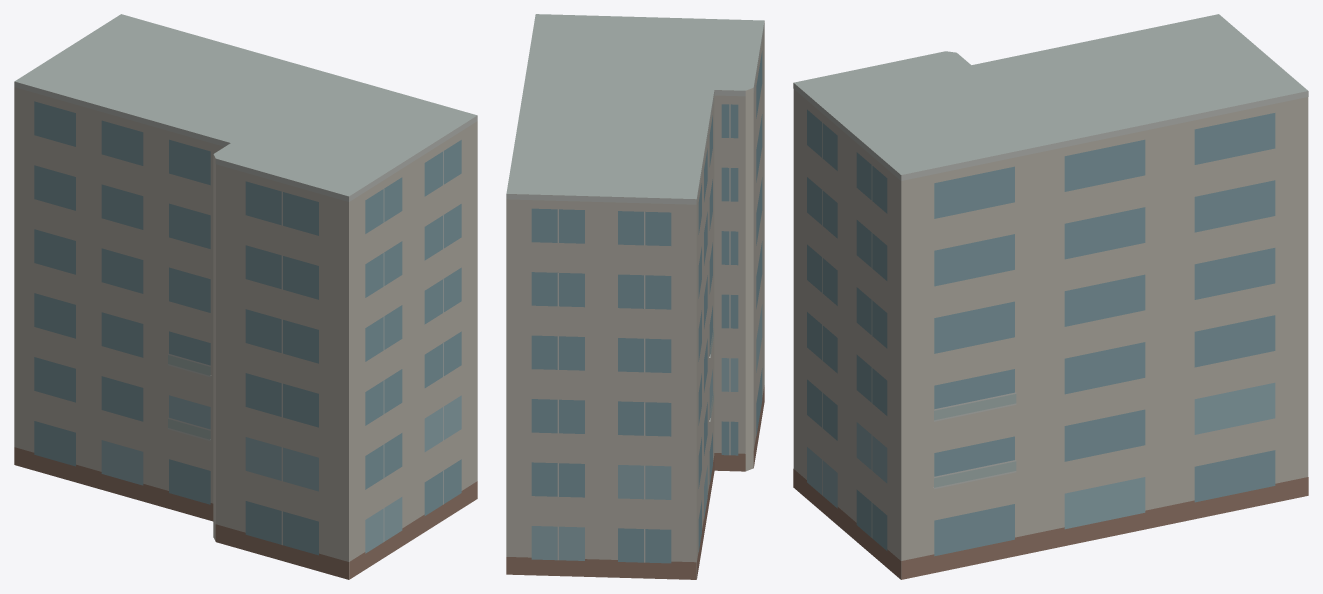
The model's file is survey-upis-32629489.glb.
The picture shows the model from 3 angles, left to right: view 1: azimuth 30°, elevation 25°; view 2: azimuth 150°, elevation 25°; view 3: azimuth 270°, elevation 25°; orthographic projection. The views are drawn at different scales.
Parts seen in each view (by area): view 1: survey-upis-32629489.tmp; view 2: survey-upis-32629489.tmp; view 3: survey-upis-32629489.tmp.
Part boxes in pixels (box(x1,y1,x2,y2)): survey-upis-32629489.tmp: box(14, 14, 477, 579); survey-upis-32629489.tmp: box(506, 14, 764, 579); survey-upis-32629489.tmp: box(793, 14, 1308, 579).
Bounding box in the file's own units: 14.18 × 16.6 × 19.15.
